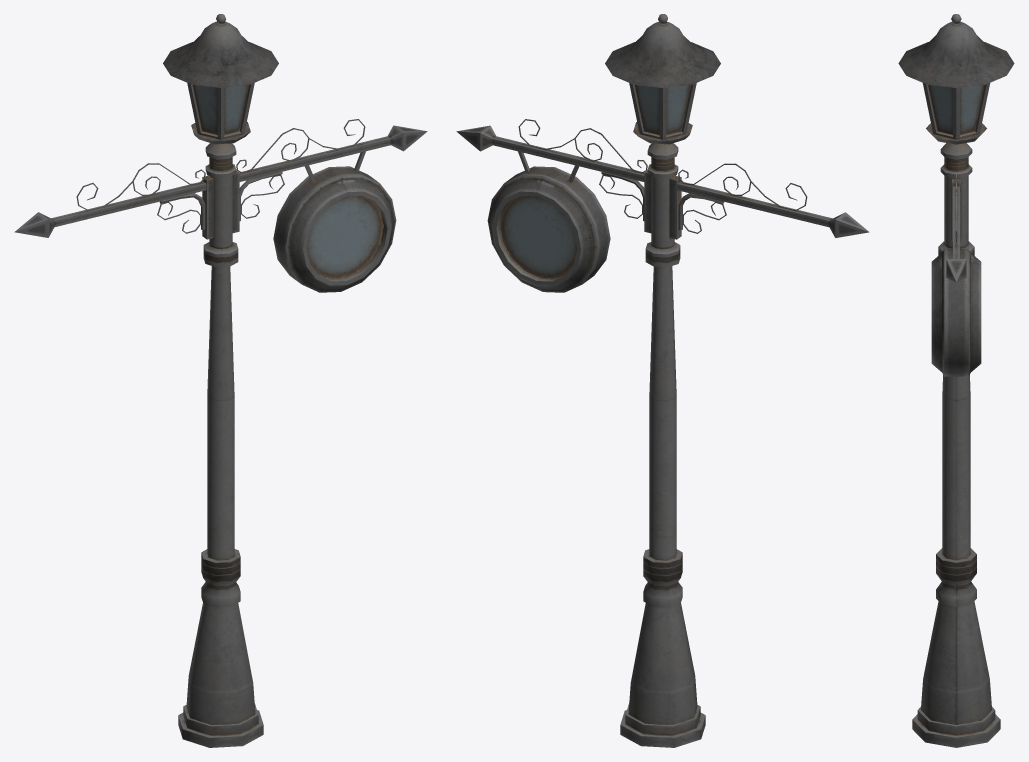
Rendered from sin_nombre.obj.
The picture shows the model from 3 angles, left to right: view 1: azimuth 30°, elevation 25°; view 2: azimuth 150°, elevation 25°; view 3: azimuth 270°, elevation 25°; orthographic projection.
Visible parts, largest first — view 1: Cylinder001__0, Cylinder009__0, Sphere001__0, Object001__0, Box002__0, Cylinder007__0, Cylinder005__0, Cylinder004__0, Cylinder002__0, Box001__0, Cylinder006__0, Cylinder003__0; view 2: Cylinder001__0, Cylinder009__0, Sphere001__0, Object001__0, Box002__0, Cylinder007__0, Cylinder005__0, Cylinder004__0, Cylinder002__0, Box001__0, Cylinder006__0, Cylinder003__0; view 3: Cylinder001__0, Cylinder009__0, Sphere001__0, Cylinder007__0, Cylinder004__0, Cylinder005__0, Cylinder002__0, Cylinder006__0, Cylinder003__0, Box002__0, Cylinder008__0.
Boxes of the visible parts, x1,y1,x2,y2 form: Cylinder001__0: (186,266,255,724); Cylinder009__0: (273,166,396,292); Sphere001__0: (163,21,278,87); Object001__0: (307,195,383,278); Box002__0: (14,125,427,237); Cylinder007__0: (187,83,254,139); Cylinder005__0: (203,176,238,267); Cylinder004__0: (201,549,240,607); Cylinder002__0: (178,710,263,747); Box001__0: (202,170,239,239); Cylinder006__0: (205,143,236,178); Cylinder003__0: (183,703,258,735); Cylinder001__0: (628,266,697,724); Cylinder009__0: (487,166,610,292); Sphere001__0: (605,22,720,87); Object001__0: (500,196,576,278); Box002__0: (456,125,869,237); Cylinder007__0: (629,83,696,139); Cylinder005__0: (645,176,680,267); Cylinder004__0: (643,549,682,607); Cylinder002__0: (620,710,705,747); Box001__0: (644,170,681,239); Cylinder006__0: (647,143,678,178); Cylinder003__0: (625,703,700,735); Cylinder001__0: (921,374,991,724); Cylinder009__0: (931,248,981,376); Sphere001__0: (898,21,1014,87); Cylinder007__0: (922,83,990,139); Cylinder004__0: (936,548,976,607); Cylinder005__0: (938,176,974,255); Cylinder002__0: (912,714,1000,747); Cylinder006__0: (940,143,972,178); Cylinder003__0: (917,707,995,735); Box002__0: (946,186,966,282); Cylinder008__0: (926,123,986,144).
Size of the model in its own units: 1.35 by 2.24 by 0.329.
1 material, 1 textured.
